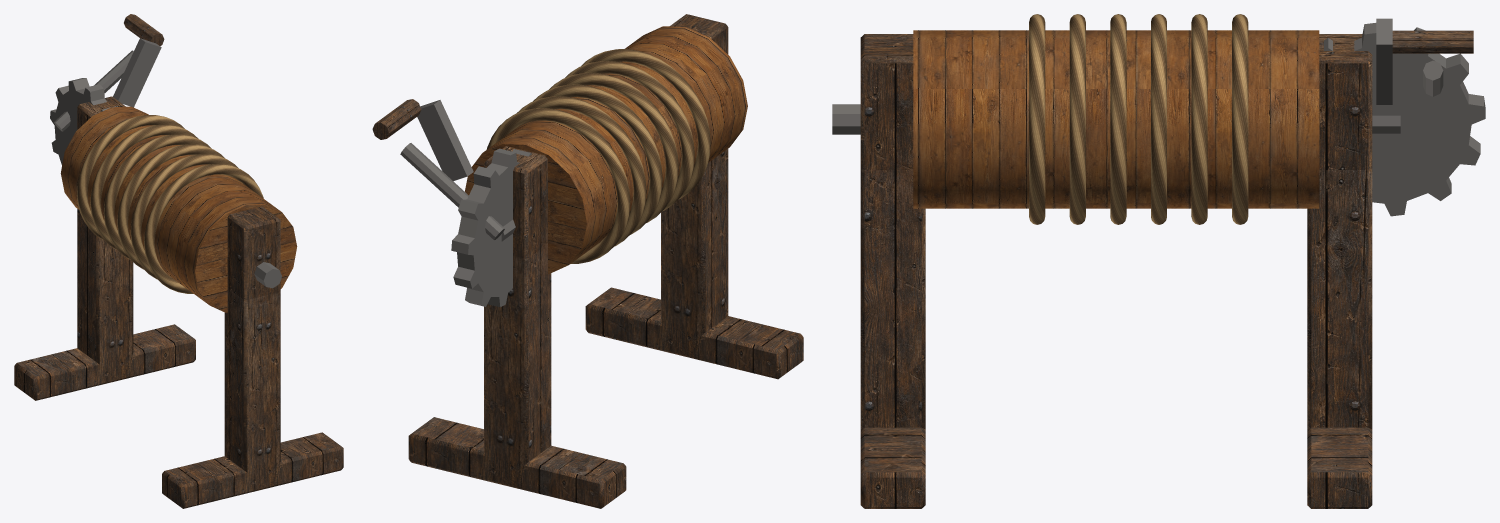
File: winch-v02.glb
3 renders of one model, left to right at view 1: azimuth 30°, elevation 25°; view 2: azimuth 150°, elevation 25°; view 3: azimuth 270°, elevation 25°, orthographic. The views are drawn at different scales.
Parts seen in each view (by area): view 1: winch, Winch rope coil review 1, Winch rope coil review 5, Winch rope coil review 3, Winch rope coil review 6, Winch rope coil review 4, Winch rope coil review 2; view 2: winch, Winch rope coil review 6, Winch rope coil review 4, Winch rope coil review 3, Winch rope coil review 1, Winch rope coil review 2, Winch rope coil review 5; view 3: winch, Winch rope coil review 1, Winch rope coil review 2, Winch rope coil review 6, Winch rope coil review 3, Winch rope coil review 5, Winch rope coil review 4.
Boxes of the visible parts, x1=… form: winch: x1=14, y1=14, x2=343, y2=508; Winch rope coil review 1: x1=144, y1=164, x2=263, y2=293; Winch rope coil review 5: x1=90, y1=124, x2=198, y2=249; Winch rope coil review 3: x1=117, y1=144, x2=224, y2=269; Winch rope coil review 6: x1=77, y1=115, x2=184, y2=239; Winch rope coil review 4: x1=103, y1=134, x2=211, y2=259; Winch rope coil review 2: x1=130, y1=154, x2=238, y2=279; winch: x1=372, y1=14, x2=803, y2=508; Winch rope coil review 6: x1=486, y1=108, x2=630, y2=263; Winch rope coil review 4: x1=533, y1=84, x2=662, y2=234; Winch rope coil review 3: x1=549, y1=72, x2=678, y2=222; Winch rope coil review 1: x1=581, y1=49, x2=710, y2=199; Winch rope coil review 2: x1=565, y1=61, x2=694, y2=211; Winch rope coil review 5: x1=516, y1=96, x2=646, y2=246; winch: x1=832, y1=18, x2=1485, y2=508; Winch rope coil review 1: x1=1029, y1=14, x2=1045, y2=224; Winch rope coil review 2: x1=1069, y1=14, x2=1085, y2=224; Winch rope coil review 6: x1=1232, y1=14, x2=1248, y2=224; Winch rope coil review 3: x1=1110, y1=14, x2=1126, y2=224; Winch rope coil review 5: x1=1191, y1=14, x2=1207, y2=224; Winch rope coil review 4: x1=1151, y1=14, x2=1166, y2=224.
Bounding box in the file's own units: 0.7 × 1.28 × 1.61.
Materials: 4 (3 with a texture image).
